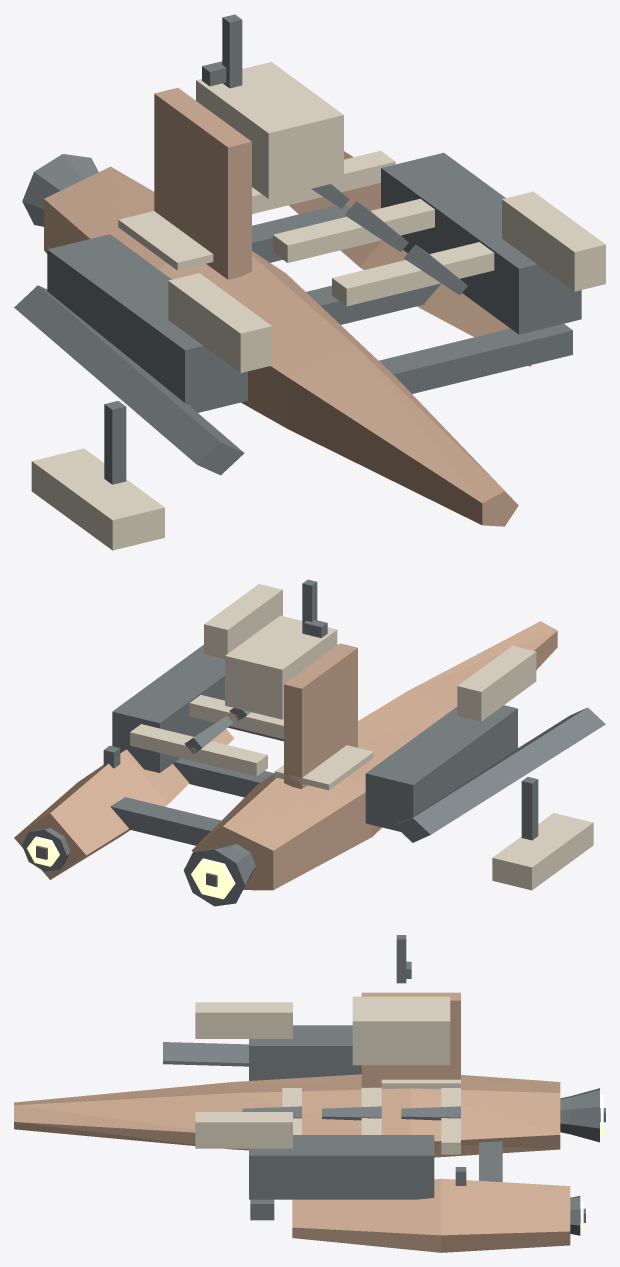
3 renders of one model, top to bottom at view 1: azimuth 30°, elevation 25°; view 2: azimuth 150°, elevation 25°; view 3: azimuth 270°, elevation 25°, orthographic. The views are drawn at different scales.
Bounding box in the file's own units: 16.64 × 11.53 × 24.27.
